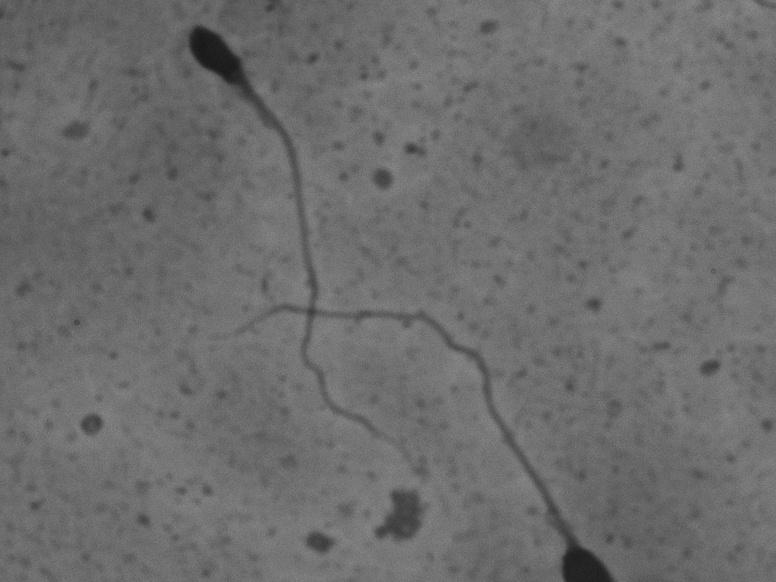Abnormal: (167, 19, 439, 497)
